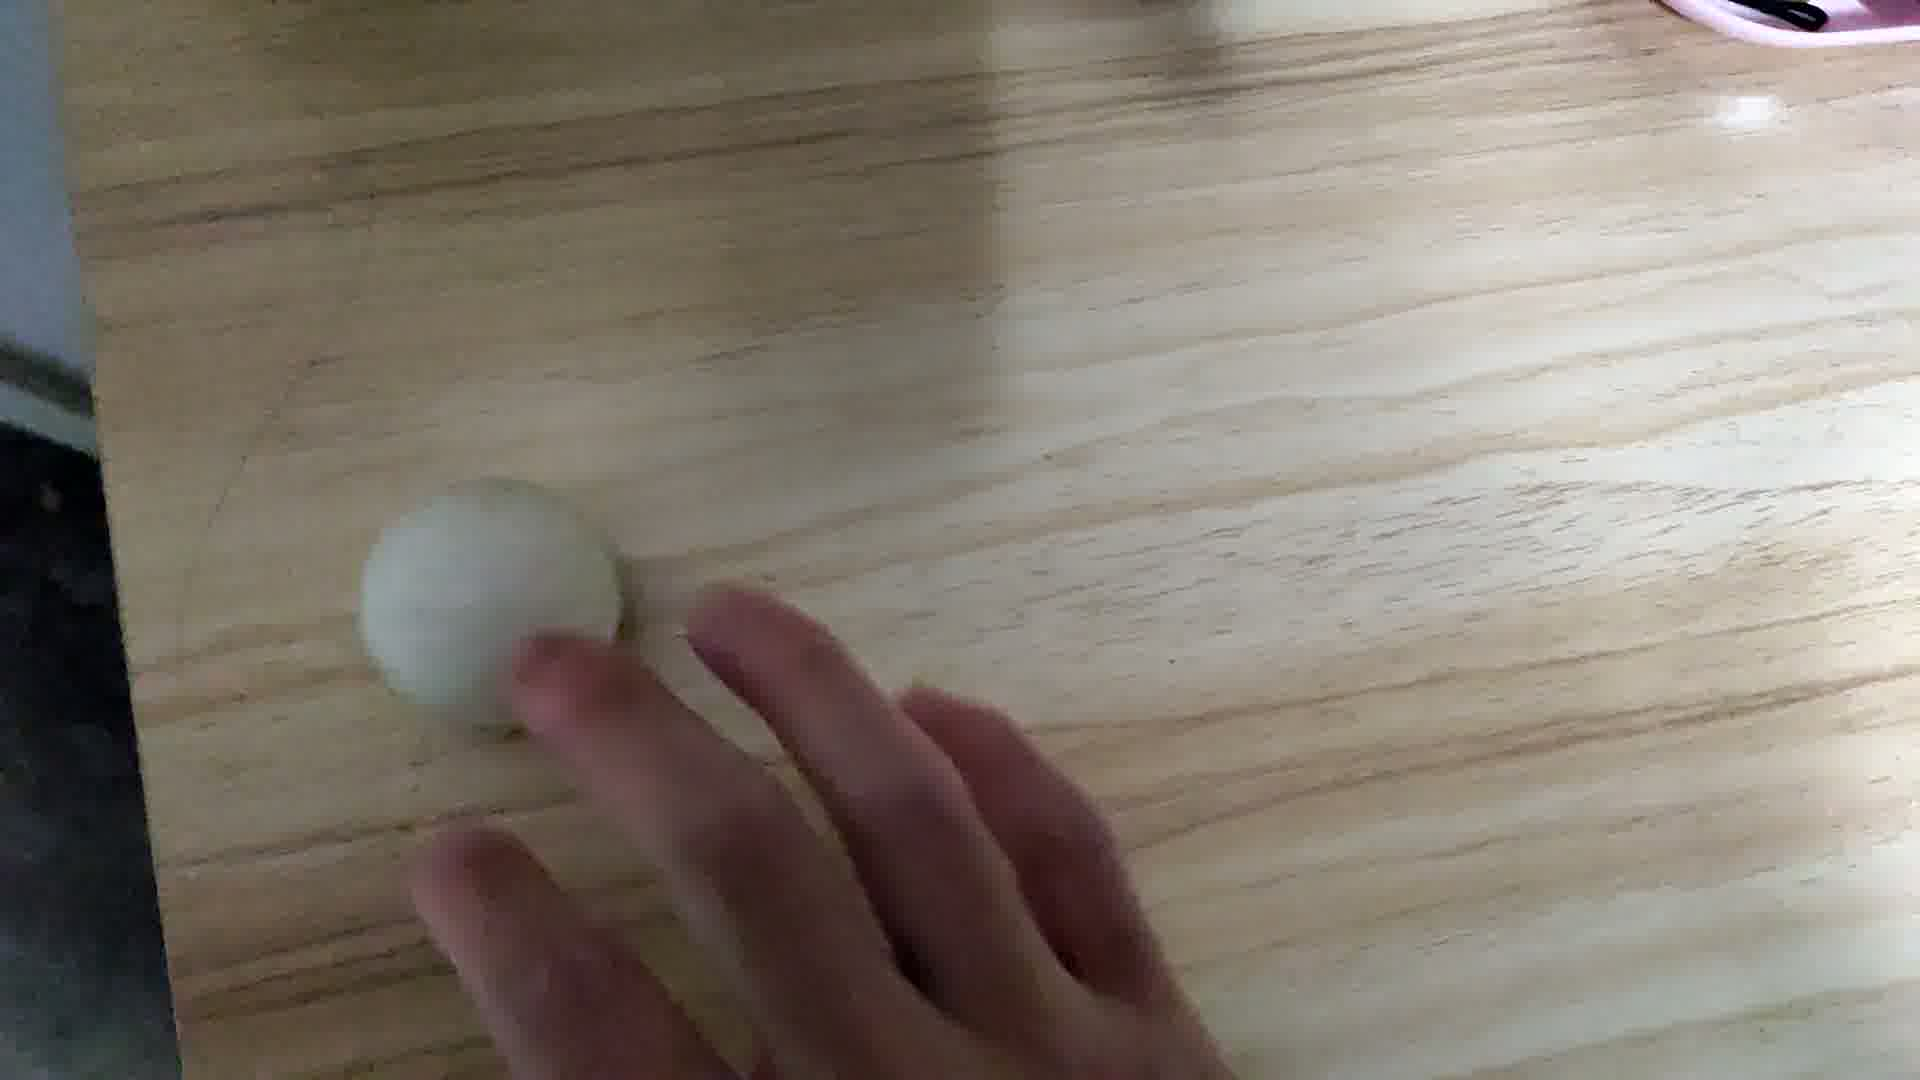Ball: (353, 477, 622, 732)
